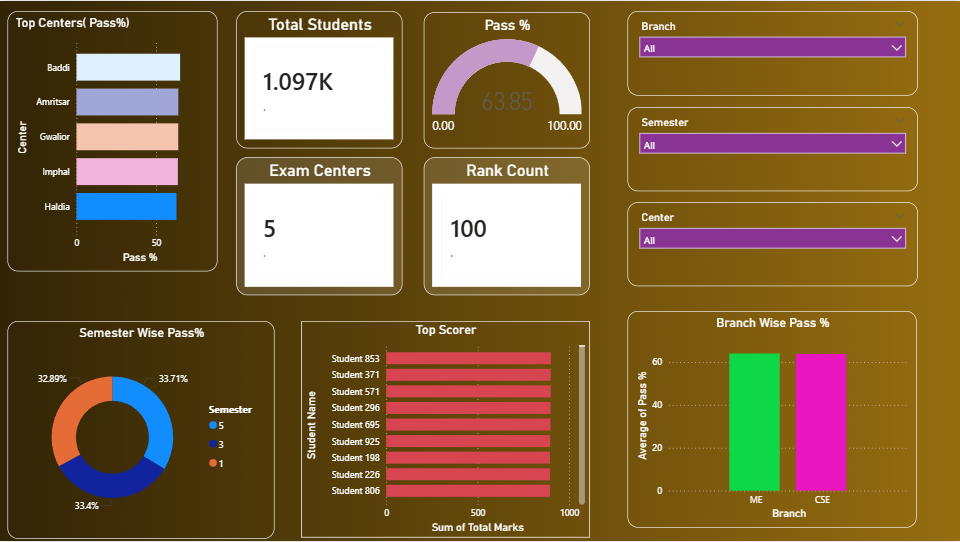

This screenshot's page, from the dashboard's own definition file:
{"tool":"powerbi","page":{"name":"Page 1","canvas":[1280,720],"ordinal":0},"visuals":[{"type":"barChart","title":"Top Centers( Pass%)","fields":{"Category":["Sheet1.Center"],"Y":["Avg(Sheet1.Pass %)"]},"box":[9.4,13.4,279.7,347],"z":0},{"type":"cardVisual","title":"Total Students","fields":{"Data":["CountNonNull(Sheet1 (2).Student ID)"]},"box":[314.7,13.4,221.9,182.9],"z":1000},{"type":"cardVisual","title":"Exam Centers","fields":{"Data":["Count(Sheet1 (2).Center)"]},"box":[314.7,208.4,221.9,184.2],"z":2000},{"type":"cardVisual","title":"Rank Count","fields":{"Data":["Count(Sheet1 (2).Rank)"]},"box":[564.8,208.4,221.9,184.2],"z":3000},{"type":"gauge","title":" Pass %","fields":{"Y":["Avg(Sheet1 (2).Pass %)"]},"box":[564.8,14.8,221.9,181.6],"z":4000},{"type":"slicer","fields":{"Values":["Sheet1 (2).Branch"]},"box":[836.5,13.4,387.3,113],"z":5000},{"type":"slicer","fields":{"Values":["Sheet1 (2).Semester"]},"box":[836.5,141.2,387.3,111.6],"z":6000},{"type":"slicer","fields":{"Values":["Sheet1 (2).Center"]},"box":[836.5,269,387.3,111.6],"z":7000},{"type":"donutChart","title":" Semester Wise Pass%","fields":{"Category":["Sheet1 (2).Semester"],"Y":["Sum(Sheet1 (2).Pass %)"]},"box":[9.4,426.3,356.4,290.5],"z":8000},{"type":"barChart","title":"Top Scorer","fields":{"Category":["Sheet1 (2).Student Name"],"Y":["Sum(Sheet1 (2).Total Marks)"]},"box":[402.1,426.3,384.6,289.1],"z":9000},{"type":"columnChart","title":" Branch Wise Pass %","fields":{"Category":["Sheet1 (2).Branch"],"Y":["Avg(Sheet1 (2).Pass %)"]},"box":[836.5,412.9,386,289.1],"z":10000}]}

Visuals, with their boxes in screenshot pixels (x1, y1, x2, y2), scaled from the page's 1280x720 canvas onto the 960x542 screenshot:
"Top Centers( Pass%)" barChart: [7,10,217,271]
"Total Students" cardVisual: [236,10,402,148]
"Exam Centers" cardVisual: [236,157,402,296]
"Rank Count" cardVisual: [424,157,590,296]
" Pass %" gauge: [424,11,590,148]
slicer - Sheet1 (2).Branch: [627,10,918,95]
slicer - Sheet1 (2).Semester: [627,106,918,190]
slicer - Sheet1 (2).Center: [627,202,918,287]
" Semester Wise Pass%" donutChart: [7,321,274,540]
"Top Scorer" barChart: [302,321,590,539]
" Branch Wise Pass %" columnChart: [627,311,917,528]
